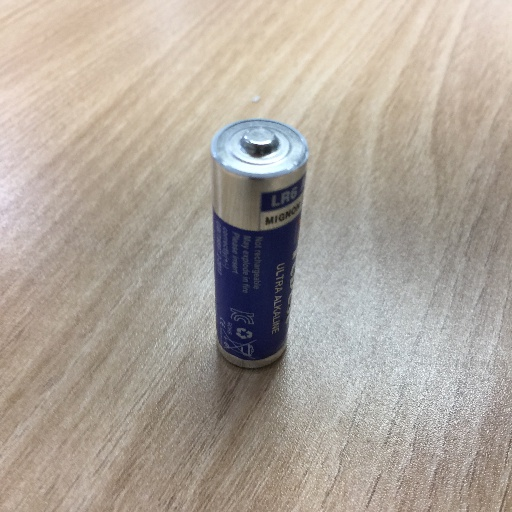Battery_0: (200, 97, 329, 389)
